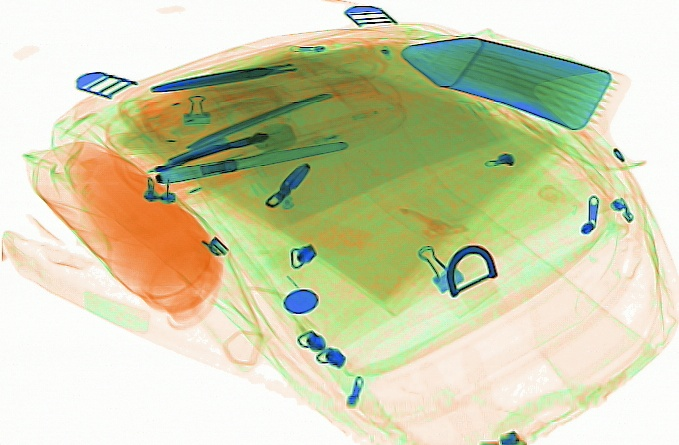scissors: (147, 36, 388, 92)
